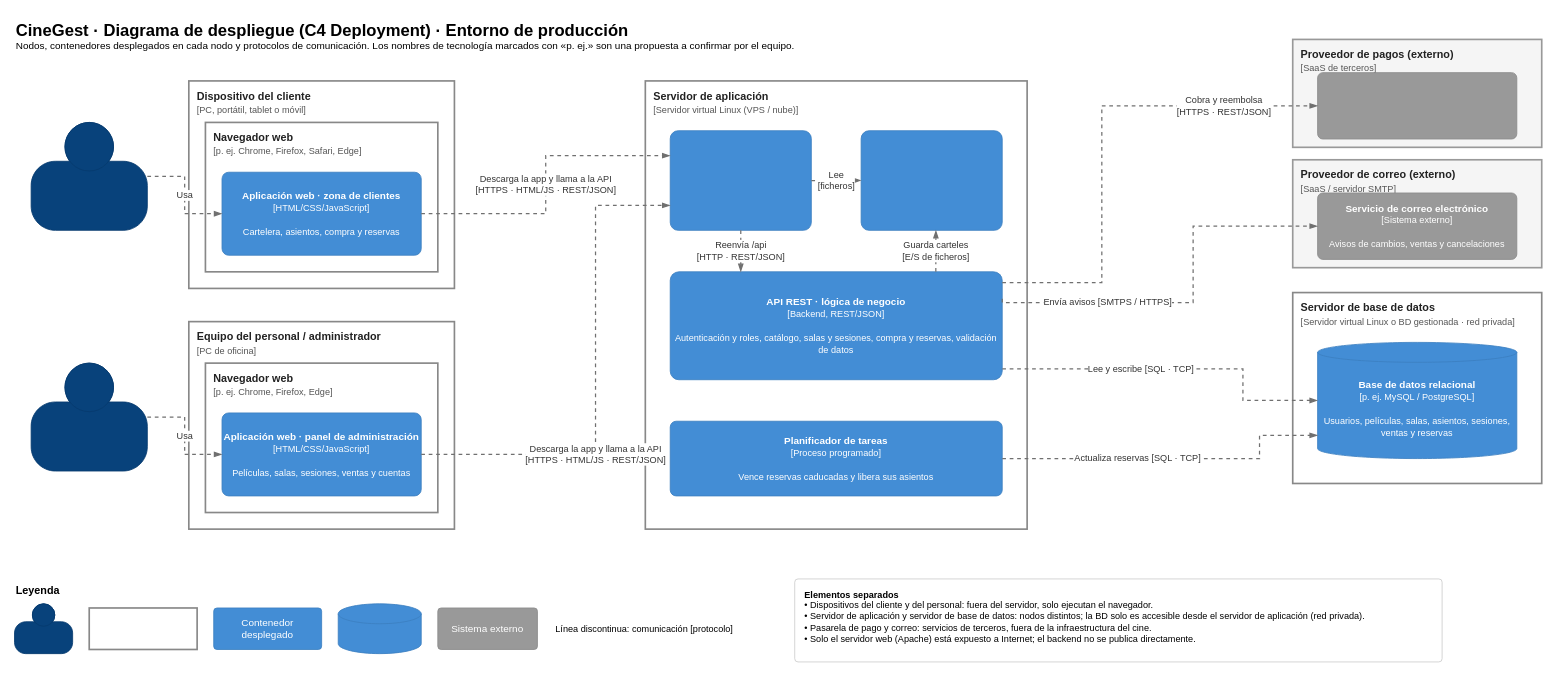
Some shapes in this 1557 by 676 pixel diagram are drawn without their labels. The shapes that lost their labels are listed below. From the top down, each one's centre as x and y in pixels, then its label:
(1417,105): Pasarela de pago con tarjeta [Sistema externo] Cobros y devoluciones
(88,176): Cliente [Persona] Visitante o usuario registrado
(740,180): Servidor web / proxy inverso [Apache] Sirve la app web y HTTPS
(931,180): Almacén de imágenes [Sistema de ficheros] Carteles de las películas
(88,416): Personal / Administrador [Persona] Gestiona el cine
(43,628): Persona
(143,628): Nodo de despliegue
(379,628): Base de datos
